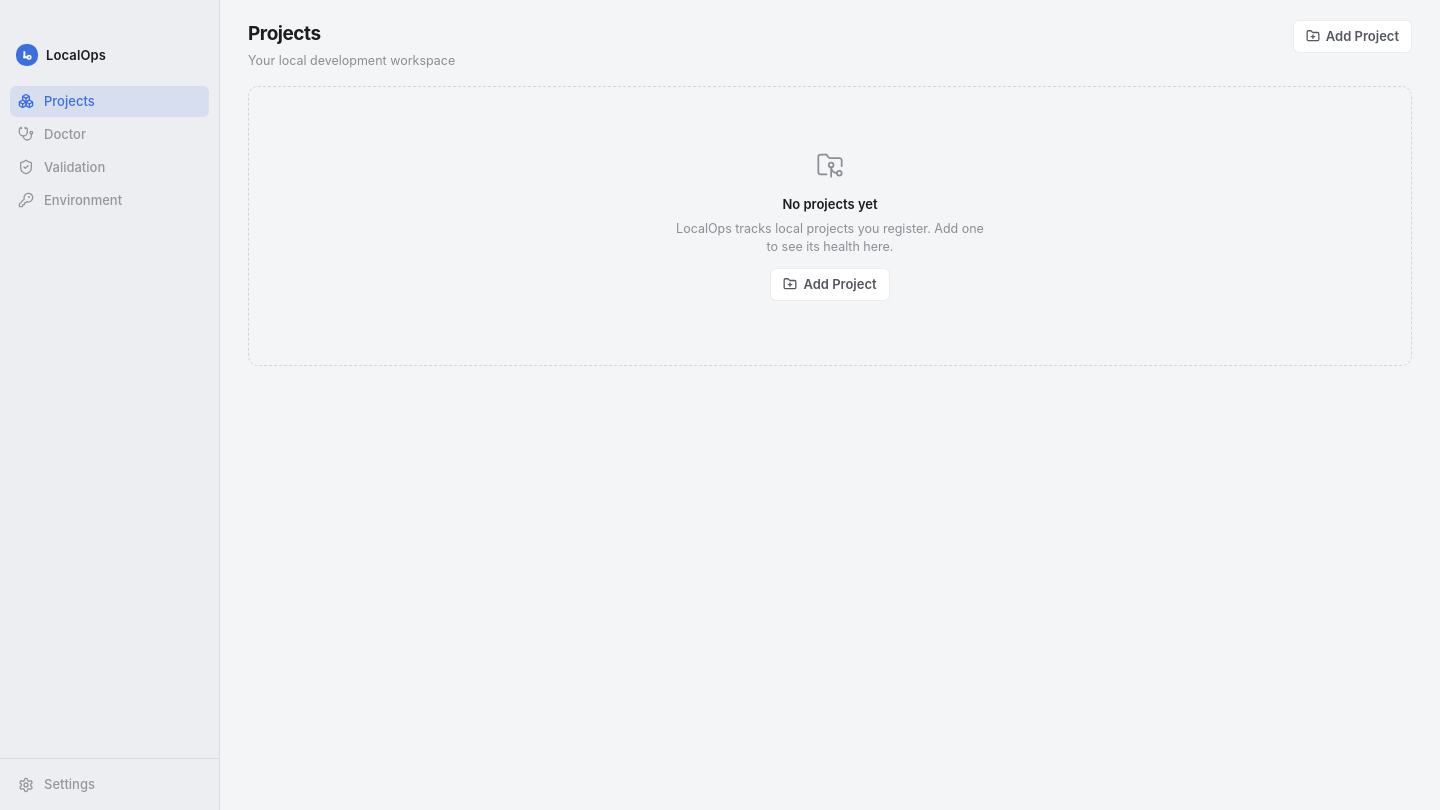
Scenario: ProjectsPage › shows an inline error when adding a project fails
Step 1. Click the 1st button "Add Project" → (1352, 36), box [1293, 20, 1412, 53]
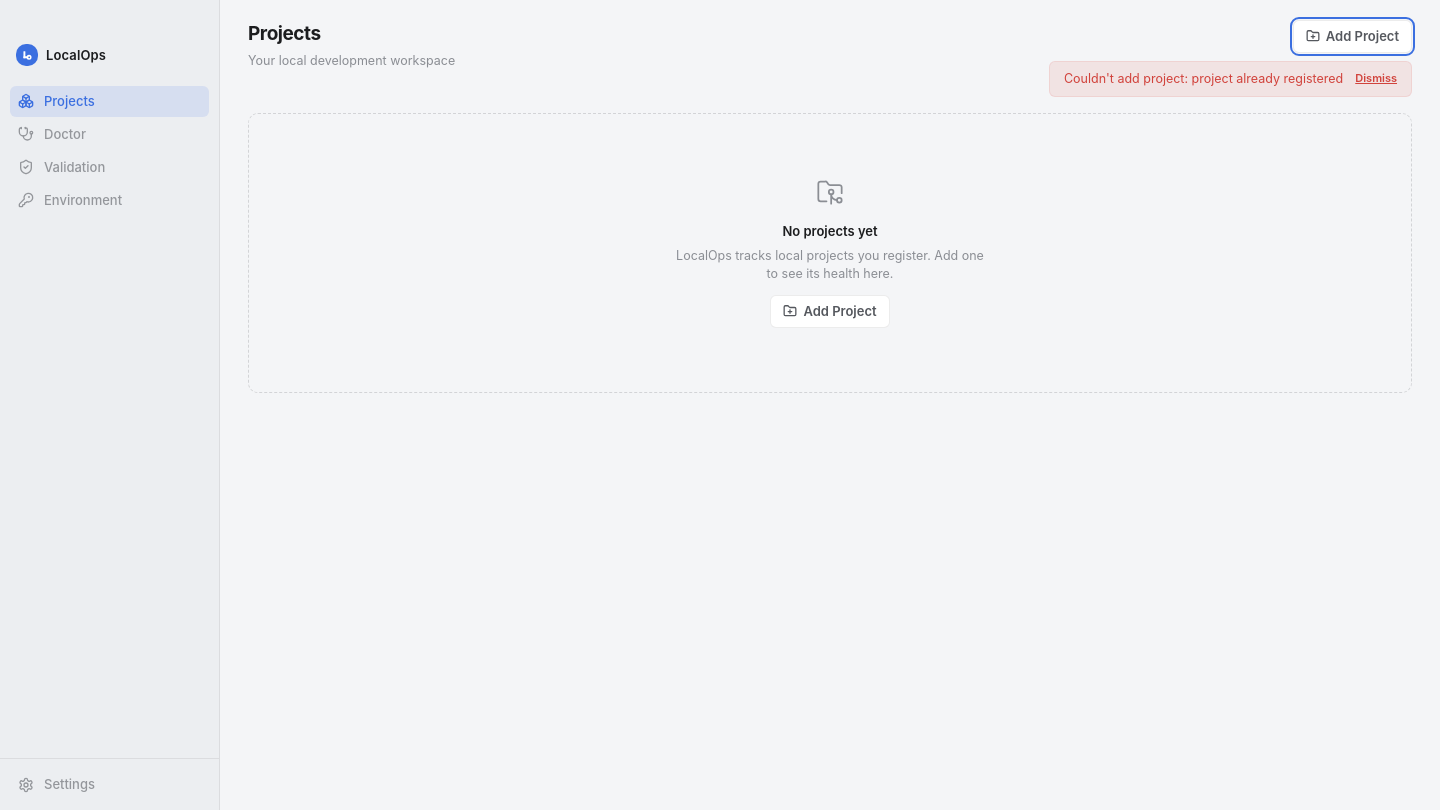
Expected: the text "Couldn't add project: project already registered" is shown, [1064, 70, 1343, 88]
